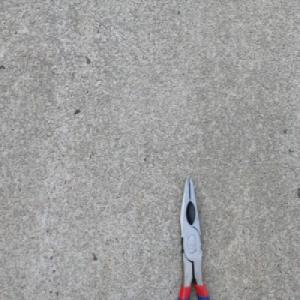Pliers: (173, 173, 211, 300)
